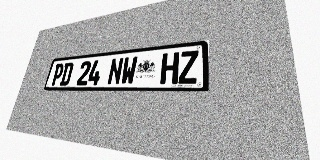2: (76, 60, 92, 85)
4: (87, 59, 103, 85)
D: (59, 62, 74, 86)
H: (160, 52, 179, 84)
N: (107, 57, 124, 85)
P: (50, 63, 65, 86)
W: (120, 56, 138, 85)
Z: (178, 50, 199, 84)
